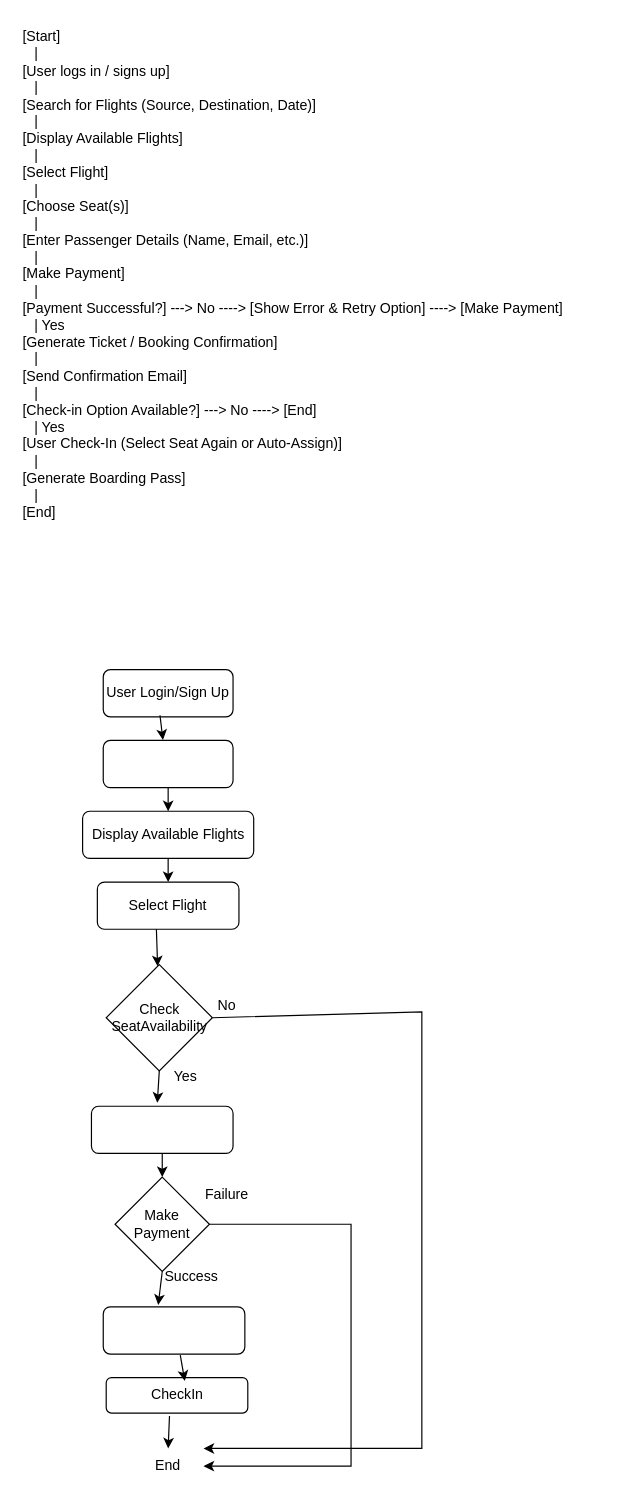
The diagram is 618 pixels wide and 1503 high, and some of its shapes have lost their labels. Here are the shapes that lost their labels. From the top down, the centre of each, then its label:
At (167,763): "Search Flights".
At (161,1129): "Make Booking , Enter Passenger Details".
At (173,1330): "Send Email Confirmation".
